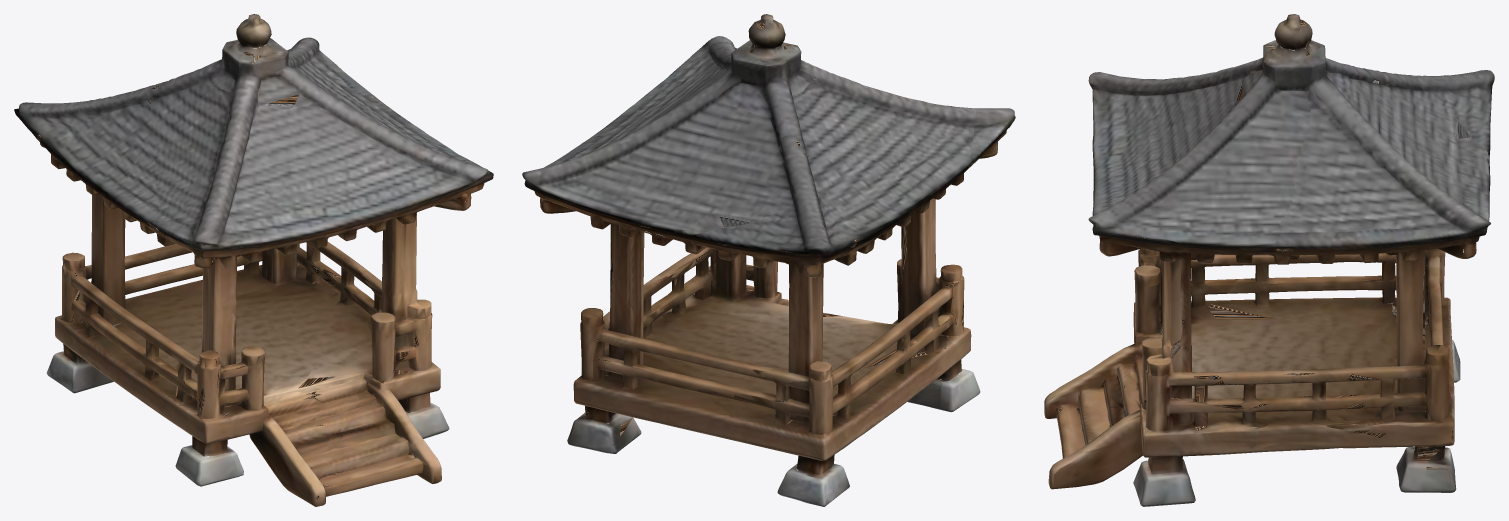
The model's file is gazebo.glb.
The picture shows the model from 3 angles, left to right: view 1: azimuth 30°, elevation 25°; view 2: azimuth 150°, elevation 25°; view 3: azimuth 270°, elevation 25°; orthographic projection. The views are drawn at different scales.
Visible parts, largest first — view 1: WG_Wooden_Gazebo_Refined; view 2: WG_Wooden_Gazebo_Refined; view 3: WG_Wooden_Gazebo_Refined.
Part boxes in pixels (x1,y1,x2,y2): WG_Wooden_Gazebo_Refined: (14,14,493,506); WG_Wooden_Gazebo_Refined: (522,14,1015,506); WG_Wooden_Gazebo_Refined: (1044,14,1494,506).
Bounding box in the file's own units: 3.16 × 4 × 3.75.
Materials: 4 (4 with a texture image).
